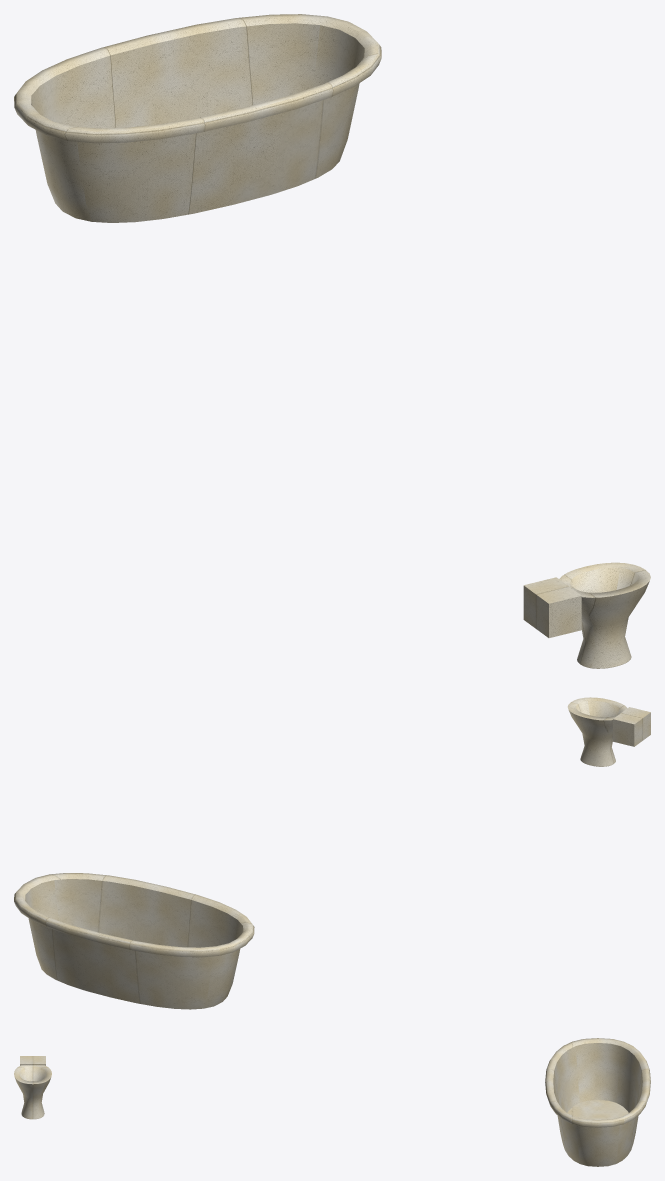
File: Banheira_conserto.glb
The picture shows the model from 3 angles, top to bottom: view 1: azimuth 30°, elevation 25°; view 2: azimuth 150°, elevation 25°; view 3: azimuth 270°, elevation 25°; orthographic projection. The views are drawn at different scales.
Parts seen in each view (by area): view 1: Banheira__Porcelana, Vaso__Porcelana; view 2: Banheira__Porcelana, Vaso__Porcelana; view 3: Banheira__Porcelana, Vaso__Porcelana.
Part boxes in pixels (<box>): Banheira__Porcelana: <box>14,14,381,222</box>; Vaso__Porcelana: <box>523,562,650,668</box>; Banheira__Porcelana: <box>14,873,254,1009</box>; Vaso__Porcelana: <box>567,697,650,766</box>; Banheira__Porcelana: <box>545,1038,650,1166</box>; Vaso__Porcelana: <box>14,1056,51,1119</box>.
Size of the model in its own units: 8.92 by 3.05 by 24.8.
Materials: 1 (1 with a texture image).
